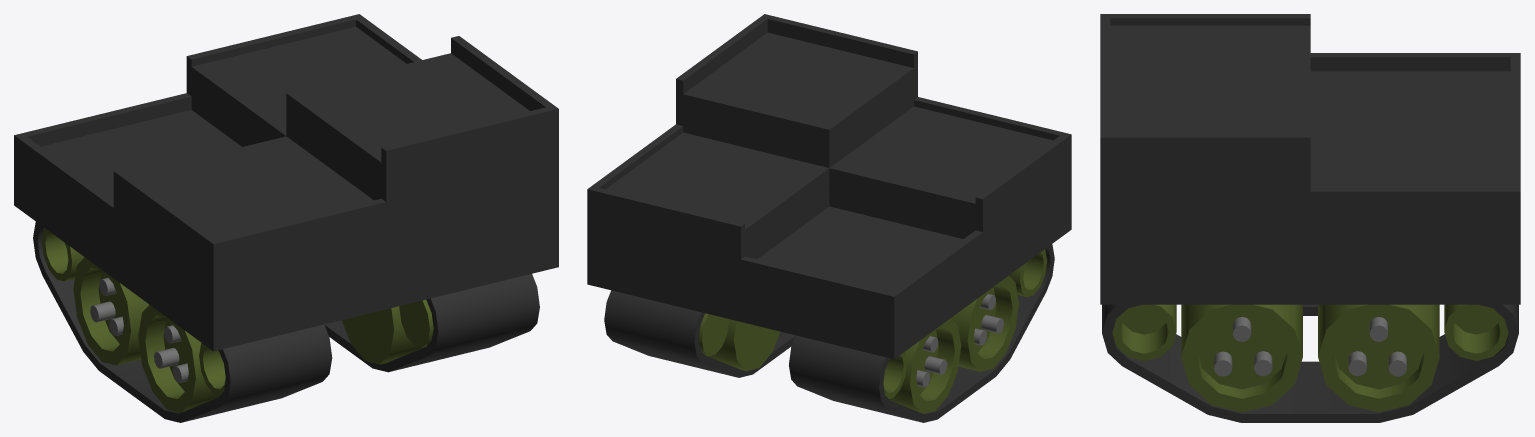
File: Plateau.fbx
3 views of the same model, side by side, from view 1: azimuth 30°, elevation 25°; view 2: azimuth 150°, elevation 25°; view 3: azimuth 270°, elevation 25° (orthographic). The views are drawn at different scales.
Visible parts, largest first — view 1: Ville, PetitesRoues.001, Roues, Roues.001, Roues.003, PetitesRoues, PetitesRoues.004, PetitesRoues.002; view 2: Ville, PetitesRoues.001, Roues.001, Roues, Roues.002, PetitesRoues.002, PetitesRoues.003, PetitesRoues; view 3: Ville, Roues.002, Roues.003, PetitesRoues.001, PetitesRoues.003, PetitesRoues.004.
Part boxes in pixels (bbox=[...]): Ville: bbox=[14, 14, 558, 351]; PetitesRoues.001: bbox=[33, 222, 539, 422]; Roues: bbox=[73, 257, 149, 365]; Roues.001: bbox=[138, 305, 219, 412]; Roues.003: bbox=[341, 306, 424, 364]; PetitesRoues: bbox=[41, 227, 84, 281]; PetitesRoues.004: bbox=[399, 299, 433, 347]; PetitesRoues.002: bbox=[199, 343, 225, 395]; Ville: bbox=[587, 14, 1071, 359]; PetitesRoues.001: bbox=[604, 244, 1054, 422]; Roues.001: bbox=[951, 276, 1018, 371]; Roues: bbox=[889, 318, 961, 413]; Roues.002: bbox=[706, 319, 779, 370]; PetitesRoues.002: bbox=[1009, 249, 1047, 296]; PetitesRoues.003: bbox=[698, 313, 729, 356]; PetitesRoues: bbox=[883, 352, 907, 398]; Ville: bbox=[1100, 14, 1520, 304]; Roues.002: bbox=[1318, 304, 1439, 412]; Roues.003: bbox=[1181, 304, 1302, 412]; PetitesRoues.001: bbox=[1102, 304, 1518, 422]; PetitesRoues.003: bbox=[1444, 304, 1508, 360]; PetitesRoues.004: bbox=[1112, 304, 1176, 360].
Bounding box in the file's own units: 2100 × 1623 × 2100.
